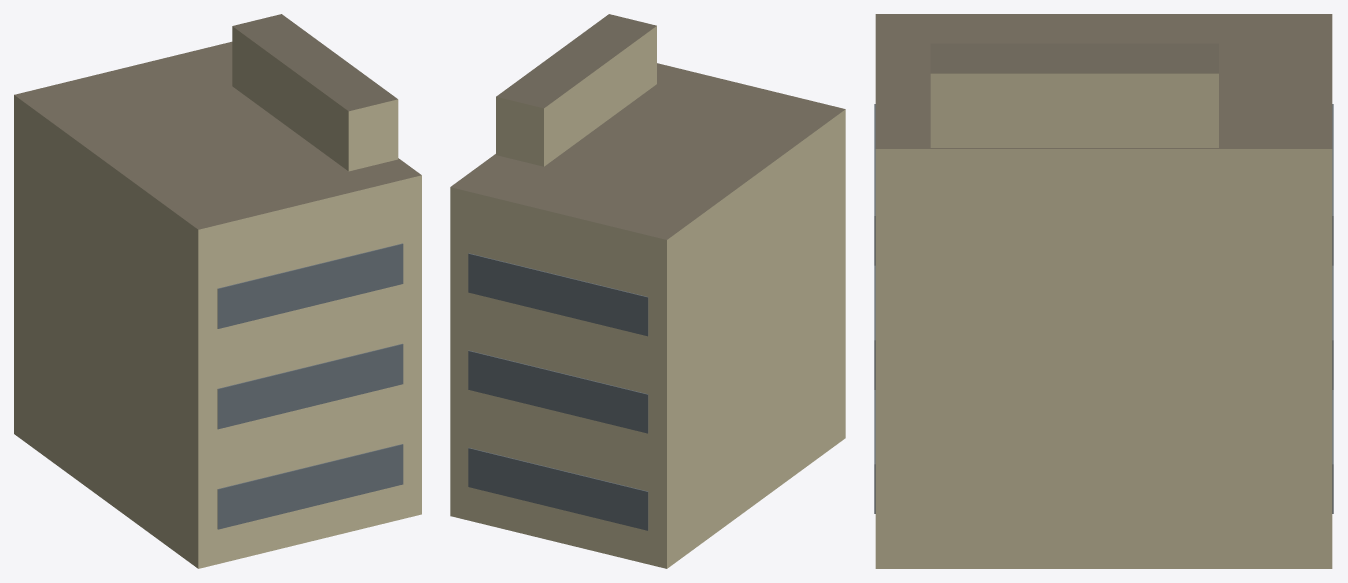
File: bay-townhouse-yellow.tone-v1.lod2.glb
3 views of the same model, side by side, from view 1: azimuth 30°, elevation 25°; view 2: azimuth 150°, elevation 25°; view 3: azimuth 270°, elevation 25° (orthographic). The views are drawn at different scales.
Parts seen in each view (by area): view 1: bay-townhouse-yellow; view 2: bay-townhouse-yellow; view 3: bay-townhouse-yellow.
Boxes of the visible parts, bbox=[...] form: bay-townhouse-yellow: bbox=[14, 14, 421, 568]; bay-townhouse-yellow: bbox=[450, 14, 845, 568]; bay-townhouse-yellow: bbox=[874, 14, 1333, 568].
Size of the model in its own units: 7 by 11.95 by 10.06.
